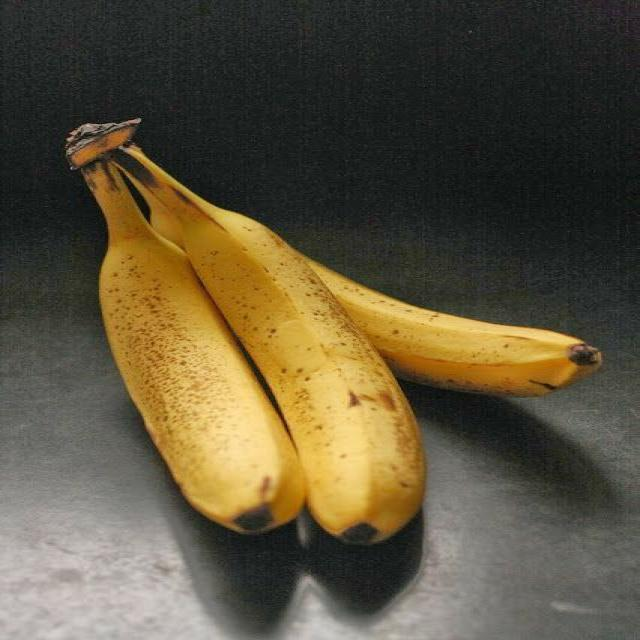unpeal banana: (112, 145, 425, 543), (83, 160, 304, 532), (307, 258, 600, 396), (310, 261, 600, 396)
